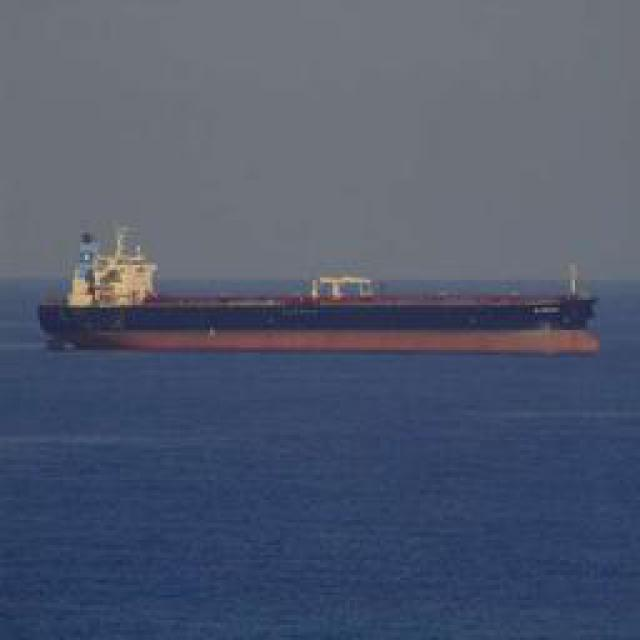Ship: (47, 252, 600, 350)
